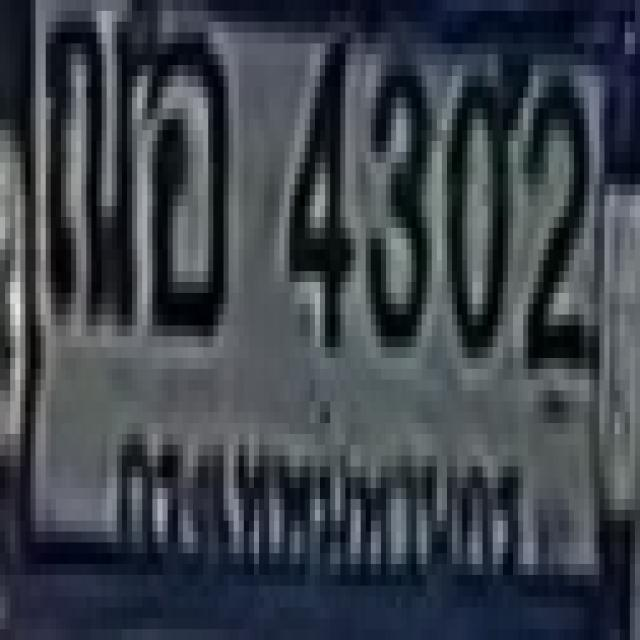0: (444, 65, 516, 347)
2: (523, 70, 589, 364)
3: (361, 55, 426, 336)
4: (284, 27, 346, 342)
A19: (41, 0, 137, 315)
A43: (142, 22, 224, 325)
BKK: (96, 392, 528, 600)
